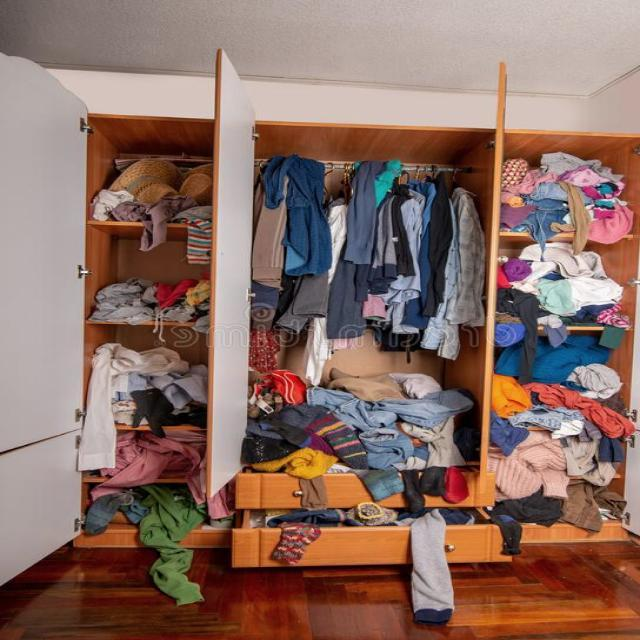clothes: (247, 192, 473, 462)
